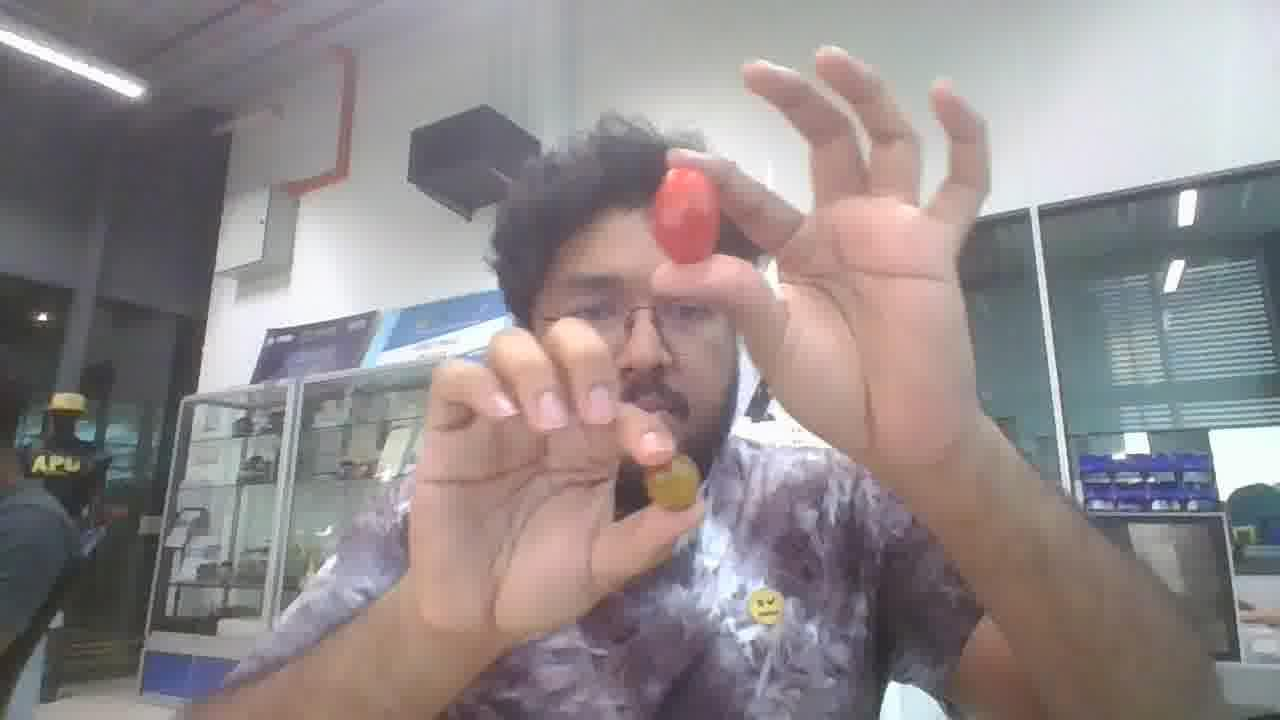red_cherry_tomato: (652, 168, 720, 263)
yellow_cherry_tomato: (645, 454, 700, 510)
